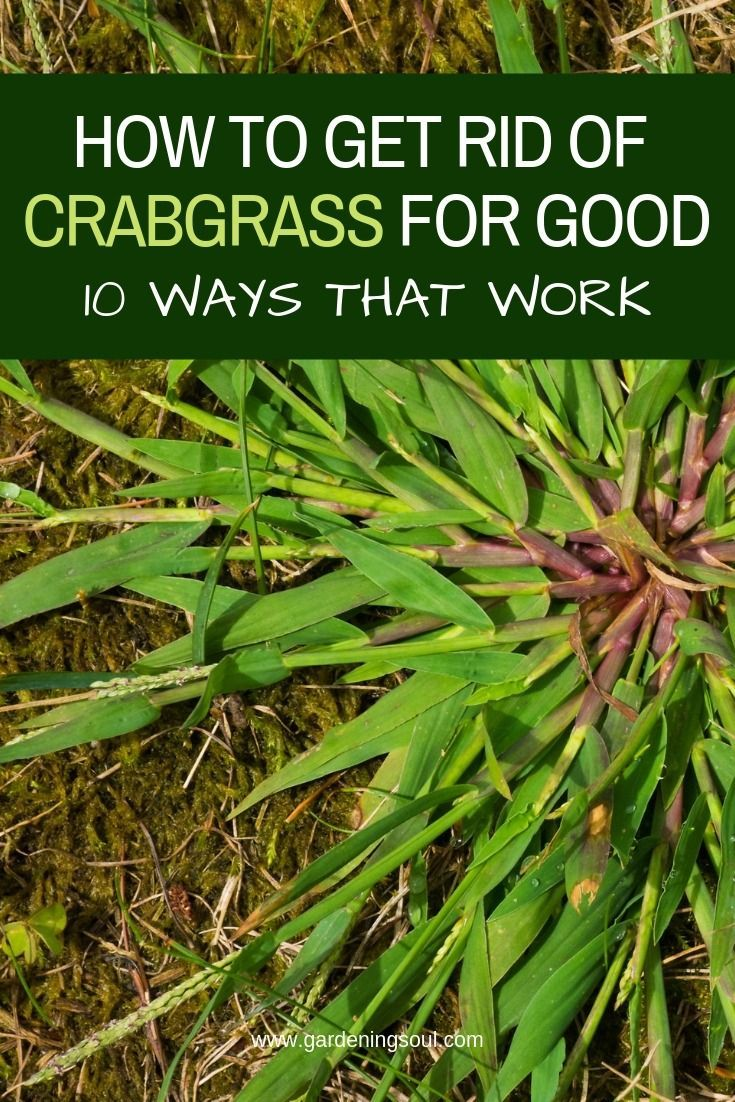crabgrass: (137, 313, 735, 1060)
